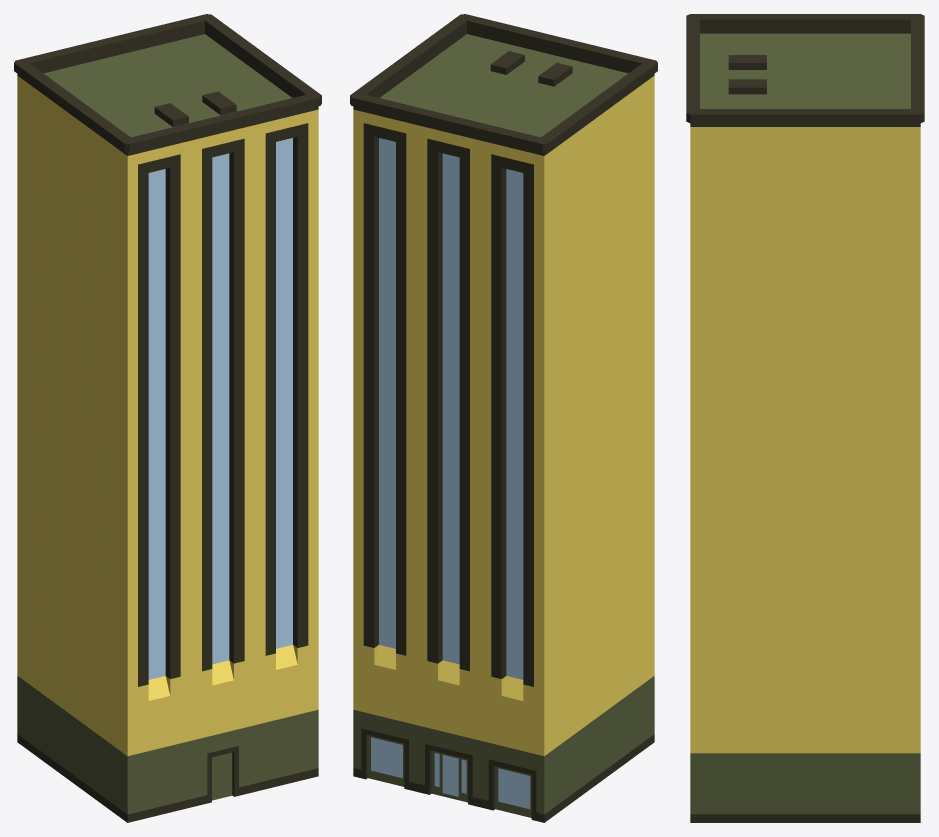
Rendered from Skyscraper-2.glb.
3 renders of one model, left to right at view 1: azimuth 30°, elevation 25°; view 2: azimuth 150°, elevation 25°; view 3: azimuth 270°, elevation 25°, orthographic. The views are drawn at different scales.
Visible parts, largest first — view 1: skyscraperF; view 2: skyscraperF; view 3: skyscraperF.
Part boxes in pixels (x1,y1,x2,y2): skyscraperF: (14, 14, 321, 822); skyscraperF: (350, 14, 657, 822); skyscraperF: (686, 14, 924, 822).
Bounding box in the file's own units: 1.24 × 4.08 × 1.24.
